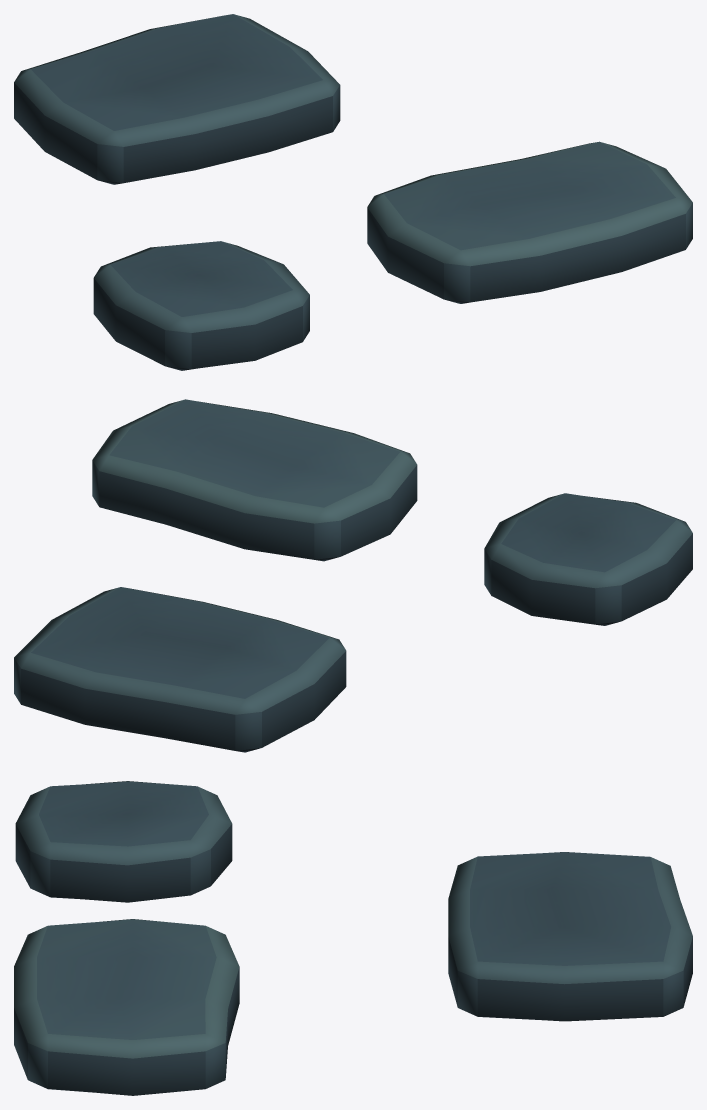
Rendered from stone_path_11_LOD_setup.fbx.
3 views of the same model, one above another, from view 1: azimuth 30°, elevation 25°; view 2: azimuth 150°, elevation 25°; view 3: azimuth 270°, elevation 25° (orthographic). The views are drawn at different scales.
Visible parts, largest first — view 1: stone_path_11_LOD0; view 2: stone_path_11_LOD0; view 3: stone_path_11_LOD0.
Part boxes in pixels (x1=…): stone_path_11_LOD0: x1=14, y1=14, x2=692, y2=370; stone_path_11_LOD0: x1=14, y1=399, x2=692, y2=752; stone_path_11_LOD0: x1=14, y1=781, x2=692, y2=1095.
Size of what is drawn, in the model's own units: 197 by 18.28 by 203.
